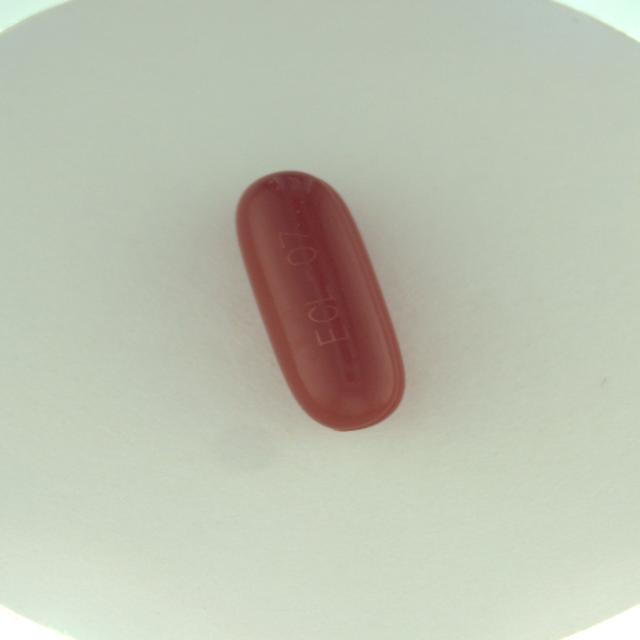Oval: (232, 166, 410, 437)
